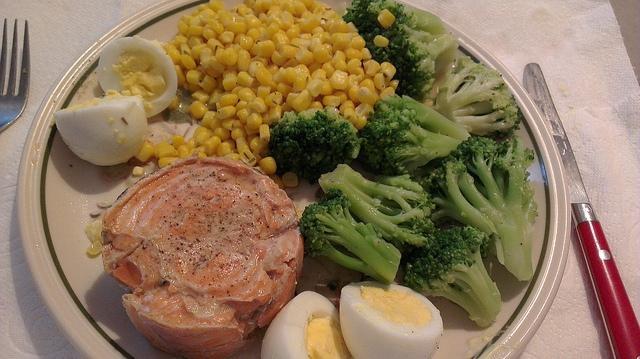broccoli: (413, 134, 539, 282), (342, 1, 459, 104), (318, 164, 442, 252), (400, 223, 502, 328), (299, 188, 402, 286), (359, 94, 472, 176), (430, 56, 522, 140), (268, 106, 363, 185), (467, 168, 488, 200)
